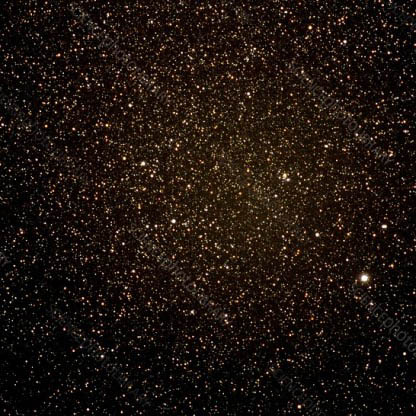Lyra: (348, 264, 378, 292), (277, 161, 300, 187), (306, 225, 327, 247), (378, 217, 395, 241), (166, 209, 180, 233), (137, 156, 150, 172)
